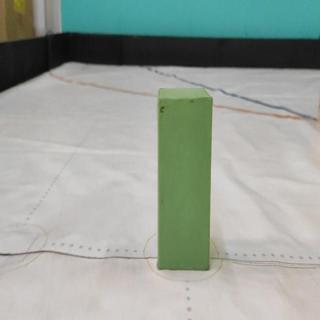greenbox: (158, 90, 212, 269)
